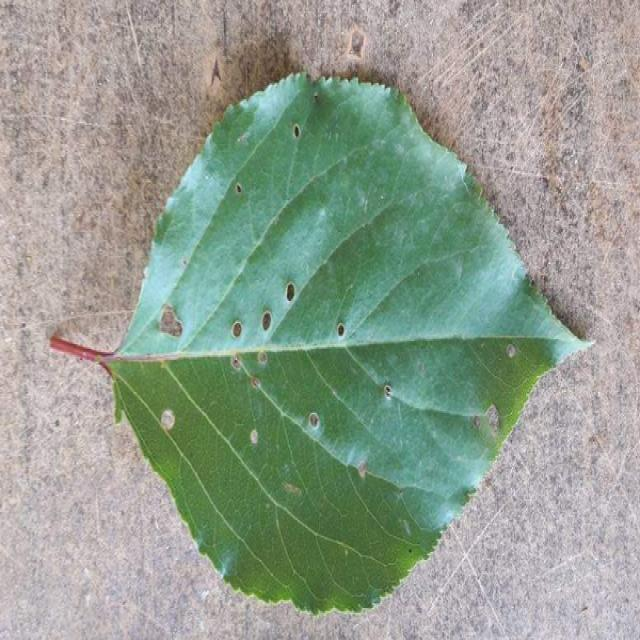kayisi yapragi: (51, 72, 598, 618)
